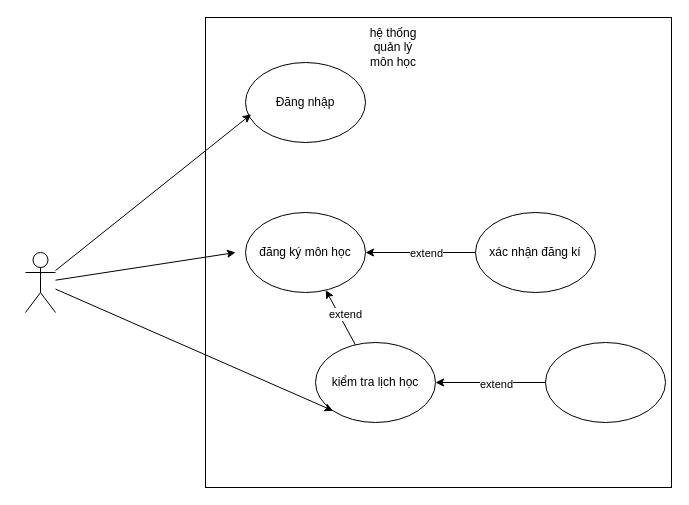
This 689x505 diagram has some shape labels left out. Here are the shapes that lost their labels. From the top down, the centre of each, then its label:
At point 40,282: "sinh viên".
At point 605,382: "xem môn học trùng giờ".
